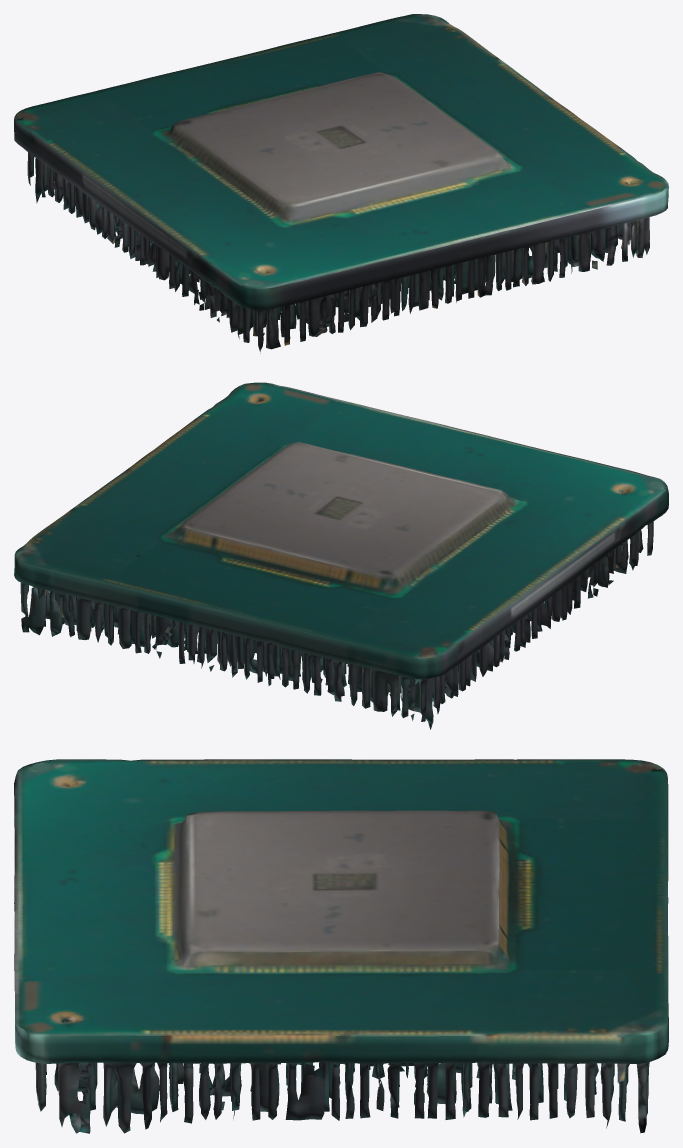
Rendered from CPU.glb.
3 views of the same model, one above another, from view 1: azimuth 30°, elevation 25°; view 2: azimuth 150°, elevation 25°; view 3: azimuth 270°, elevation 25° (orthographic). The views are drawn at different scales.
Size of the model in its own units: 2.01 by 0.43 by 2.
Materials: 1 (1 with a texture image).
